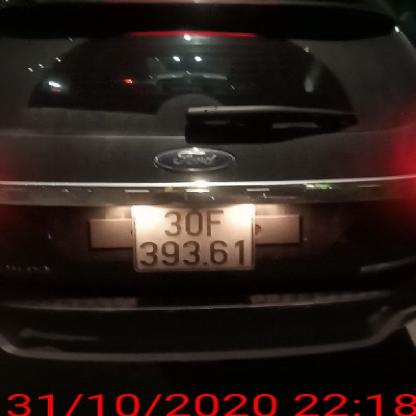biensoxe: (129, 198, 259, 272)
